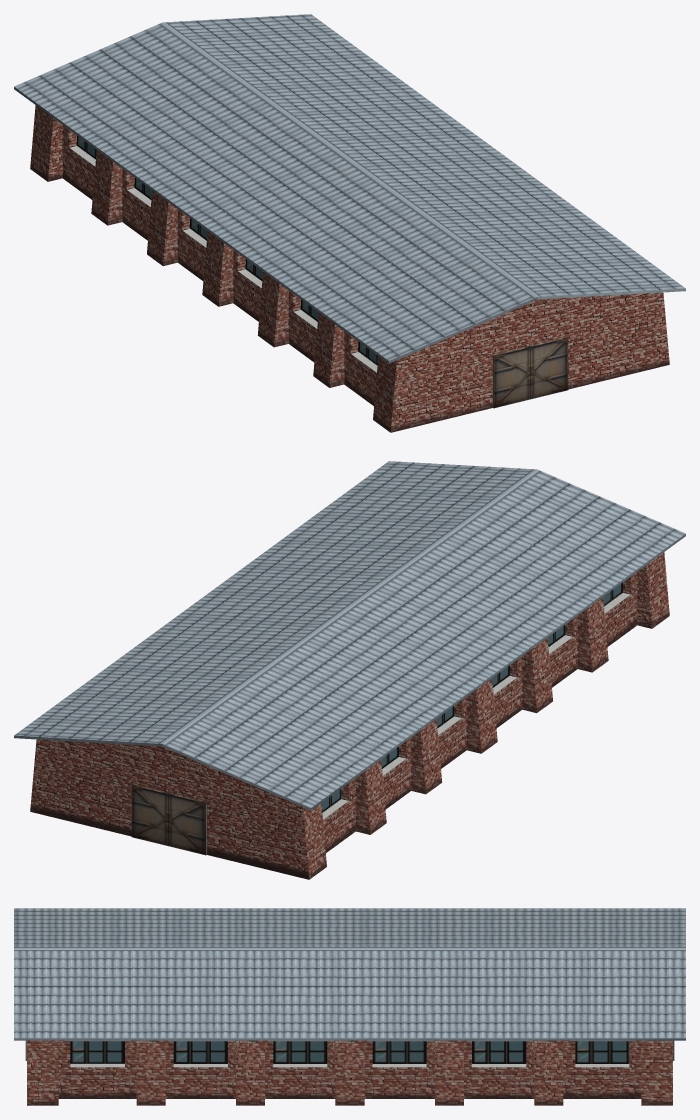
The model's file is IndustrialWarehouse.obj.
3 views of the same model, one above another, from view 1: azimuth 30°, elevation 25°; view 2: azimuth 150°, elevation 25°; view 3: azimuth 270°, elevation 25° (orthographic). The views are drawn at different scales.
Size of the model in its own units: 23.78 by 8.2 by 52.
Materials: 1 (1 with a texture image).
